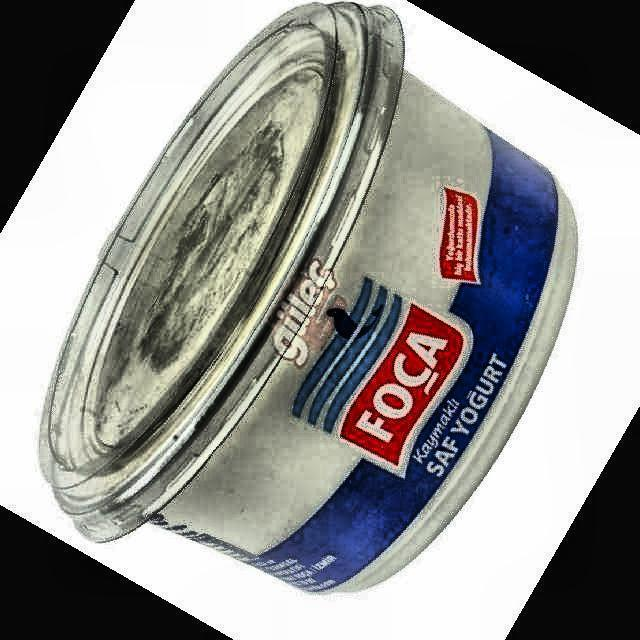plastic: (40, 2, 576, 591)
